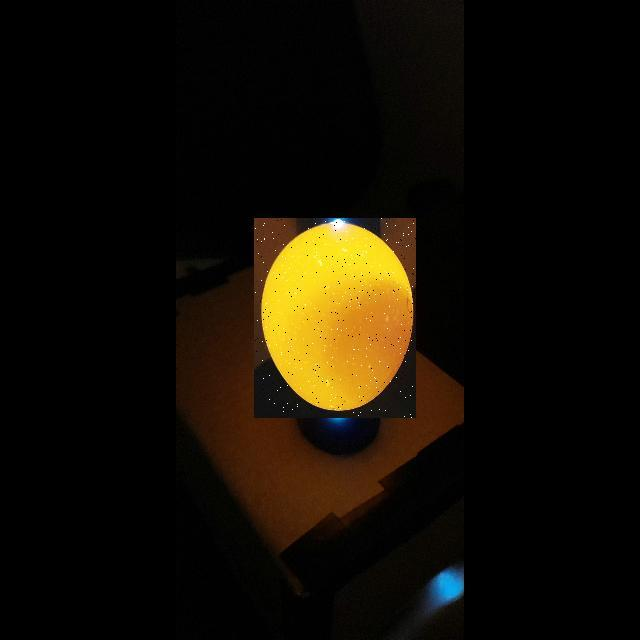A - Good: (254, 218, 416, 418)
